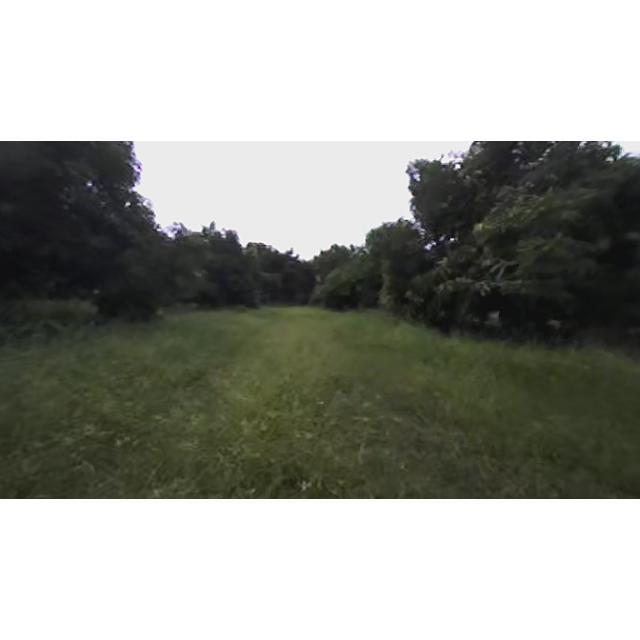direk: (396, 144, 640, 342), (0, 142, 166, 322), (156, 220, 270, 314), (358, 198, 442, 312), (306, 245, 382, 312), (244, 240, 314, 308)
